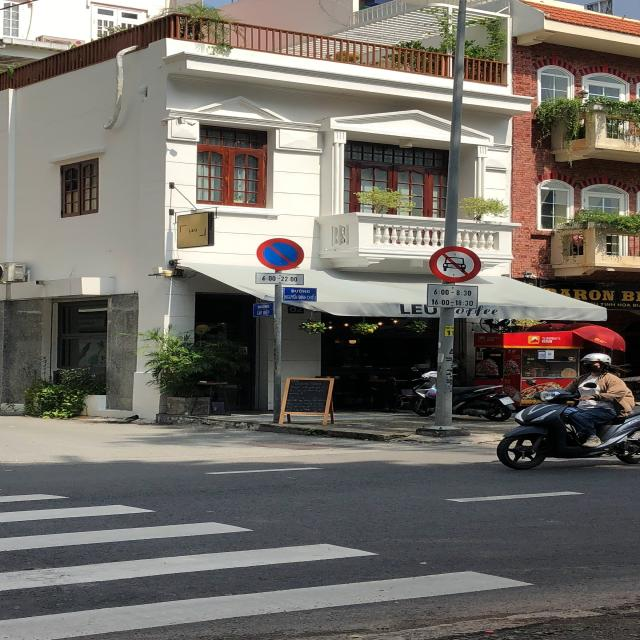Bien bao cam do xe: (256, 237, 307, 273)
Bien bao cam xe oto: (426, 244, 480, 282)
